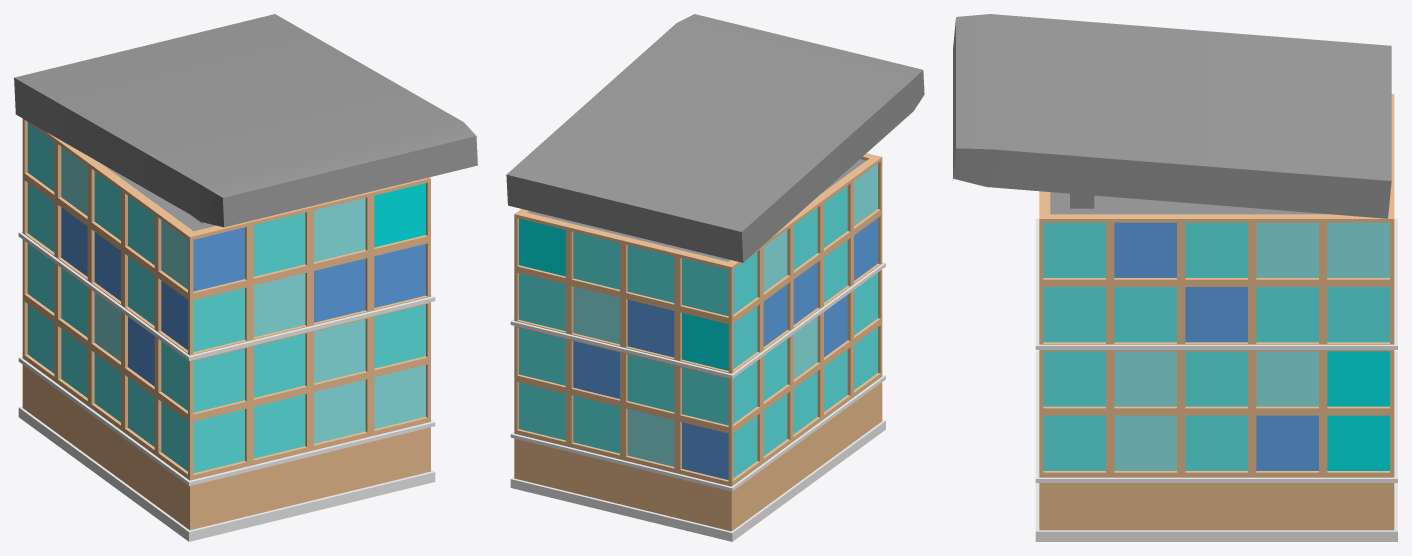
Rendered from SM_House_23_01.FBX.
The picture shows the model from 3 angles, left to right: view 1: azimuth 30°, elevation 25°; view 2: azimuth 150°, elevation 25°; view 3: azimuth 270°, elevation 25°; orthographic projection. The views are drawn at different scales.
Visible parts, largest first — view 1: SM_House_23_01; view 2: SM_House_23_01; view 3: SM_House_23_01.
Boxes of the visible parts, x1,y1,x2,y2 form: SM_House_23_01: (14, 14, 477, 541); SM_House_23_01: (506, 14, 924, 541); SM_House_23_01: (953, 14, 1397, 541).
Size of the model in its own units: 5.41 by 7.4 by 7.52.
Materials: 1 (1 with a texture image).
